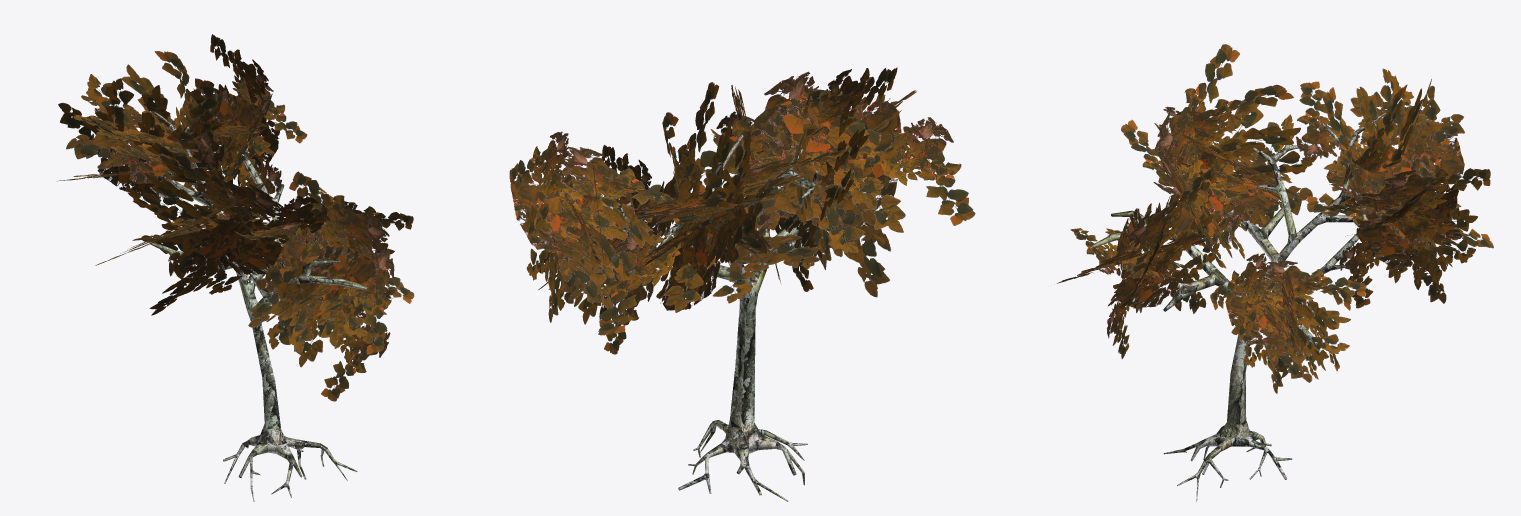
The model's file is Tree-brown.fbx.
3 renders of one model, left to right at view 1: azimuth 30°, elevation 25°; view 2: azimuth 150°, elevation 25°; view 3: azimuth 270°, elevation 25°, orthographic. The views are drawn at different scales.
Visible parts, largest first — view 1: Plane.008, Tree, Plane, Plane.024, Plane.022, Plane.004, Plane.009, Plane.005, Plane.006, Plane.013, Plane.002, Plane.010 (+8 smaller); view 2: Plane.001, Plane.014, Tree, Plane.024, Plane.020, Plane.004, Plane.012, Plane.010, Plane, Plane.023, Plane.022, Plane.003 (+5 smaller); view 3: Tree, Plane, Plane.010, Plane.005, Plane.023, Plane.002, Plane.029, Plane.024, Plane.003, Plane.025, Plane.021, Plane.027 (+13 smaller).
Boxes of the visible parts, x1=… form: Plane.008: x1=256, y1=246, x2=390, y2=401; Tree: x1=143, y1=103, x2=367, y2=501; Plane: x1=126, y1=143, x2=290, y2=274; Plane.024: x1=58, y1=78, x2=224, y2=198; Plane.022: x1=66, y1=51, x2=213, y2=183; Plane.004: x1=149, y1=196, x2=326, y2=315; Plane.009: x1=248, y1=222, x2=394, y2=354; Plane.005: x1=269, y1=171, x2=395, y2=334; Plane.006: x1=273, y1=225, x2=414, y2=351; Plane.013: x1=170, y1=92, x2=281, y2=220; Plane.002: x1=150, y1=129, x2=252, y2=279; Plane.010: x1=210, y1=34, x2=279, y2=191; Plane.001: x1=746, y1=89, x2=975, y2=252; Plane.014: x1=512, y1=146, x2=664, y2=309; Tree: x1=548, y1=134, x2=850, y2=501; Plane.024: x1=650, y1=82, x2=762, y2=310; Plane.020: x1=598, y1=193, x2=820, y2=335; Plane.004: x1=688, y1=71, x2=903, y2=297; Plane.012: x1=549, y1=176, x2=680, y2=300; Plane.010: x1=509, y1=131, x2=588, y2=322; Plane: x1=782, y1=67, x2=897, y2=267; Plane.023: x1=635, y1=148, x2=847, y2=224; Plane.022: x1=662, y1=112, x2=770, y2=254; Plane.003: x1=731, y1=90, x2=916, y2=228; Tree: x1=1091, y1=112, x2=1427, y2=501; Plane: x1=1154, y1=44, x2=1312, y2=246; Plane.010: x1=1355, y1=168, x2=1490, y2=303; Plane.005: x1=1113, y1=167, x2=1219, y2=313; Plane.023: x1=1296, y1=81, x2=1464, y2=191; Plane.002: x1=1154, y1=84, x2=1317, y2=218; Plane.029: x1=1225, y1=260, x2=1366, y2=382; Plane.024: x1=1323, y1=68, x2=1440, y2=219; Plane.003: x1=1121, y1=117, x2=1287, y2=211; Plane.025: x1=1210, y1=253, x2=1284, y2=393; Plane.021: x1=1306, y1=91, x2=1464, y2=225; Plane.027: x1=1266, y1=278, x2=1351, y2=377.
Bounding box in the file's own units: 643 × 694 × 747.
